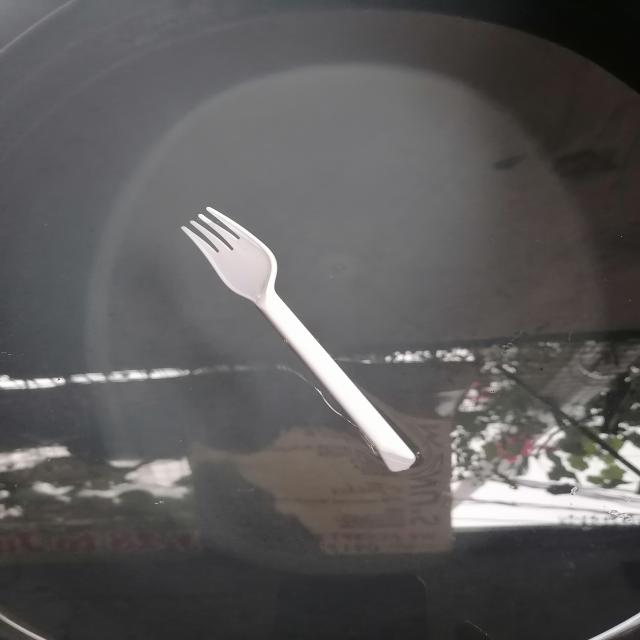Plastic Fork: (181, 207, 415, 472)
